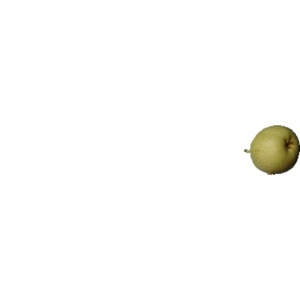pera: (244, 124, 300, 176)
